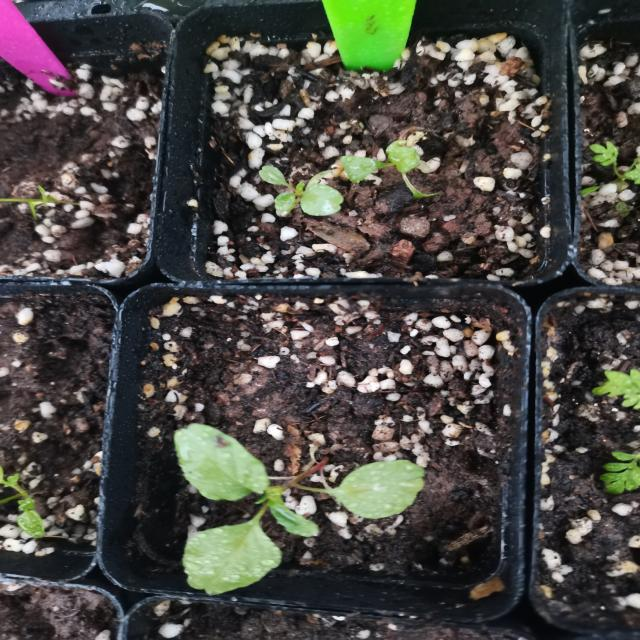pigweed: (158, 413, 414, 606)
